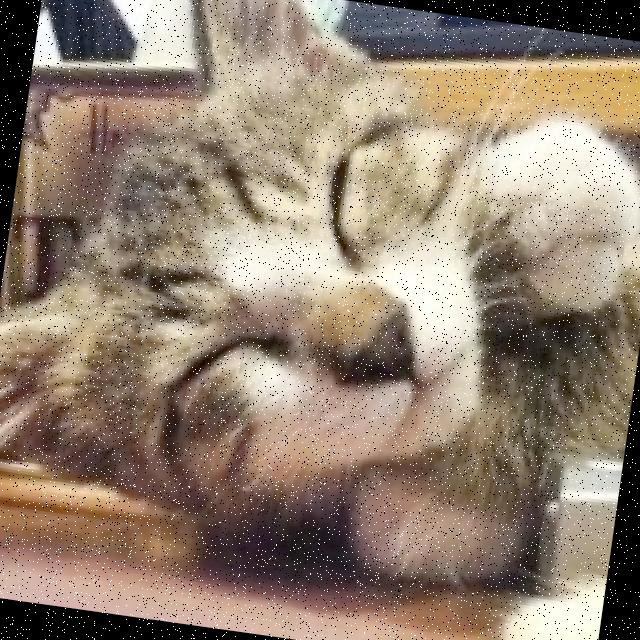Happy: (58, 61, 514, 508)
